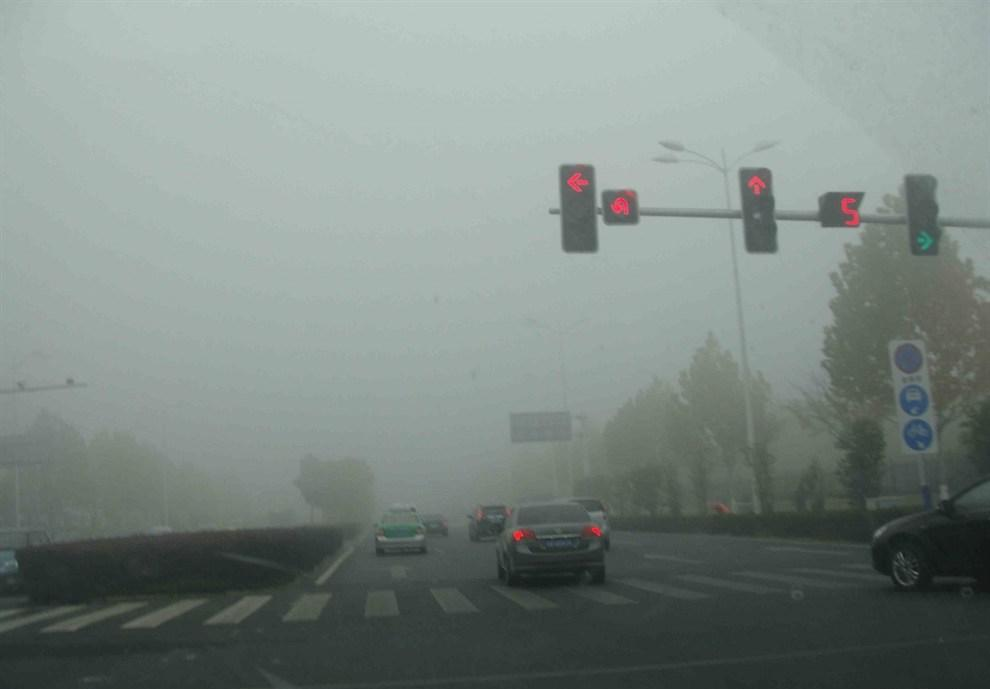car: (868, 478, 990, 591), (489, 500, 607, 586), (544, 495, 613, 550), (371, 505, 428, 558), (465, 502, 511, 543), (413, 511, 449, 539)
